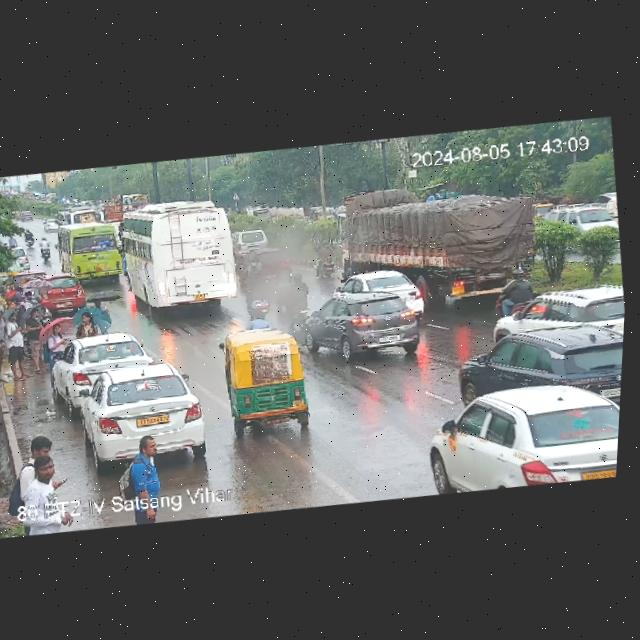bus: (117, 187, 257, 316), (52, 209, 131, 283)
car: (420, 367, 621, 497), (51, 356, 214, 471), (472, 316, 624, 414), (221, 327, 317, 433), (302, 286, 428, 366), (492, 282, 626, 348), (49, 329, 156, 399), (341, 256, 427, 317), (551, 198, 613, 242), (38, 274, 91, 312), (233, 226, 273, 255), (11, 241, 32, 267), (306, 202, 332, 221), (531, 199, 553, 217), (41, 216, 58, 233), (254, 206, 272, 218)
motorcycle: (244, 258, 312, 331), (495, 266, 529, 310), (312, 238, 333, 278), (37, 236, 52, 261), (22, 228, 34, 247)
person: (336, 171, 553, 312), (4, 434, 76, 514), (112, 436, 171, 502), (0, 308, 39, 378), (37, 307, 74, 364), (0, 308, 20, 379), (75, 306, 113, 340), (0, 280, 34, 312), (7, 234, 18, 246)
